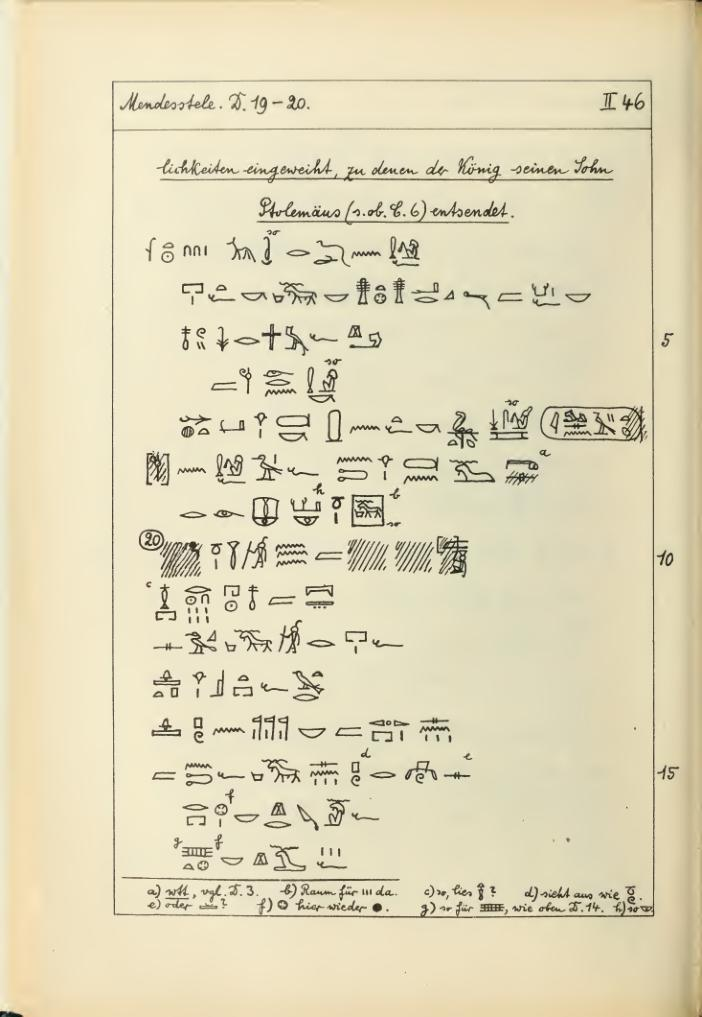circle: (529, 390, 662, 464)
